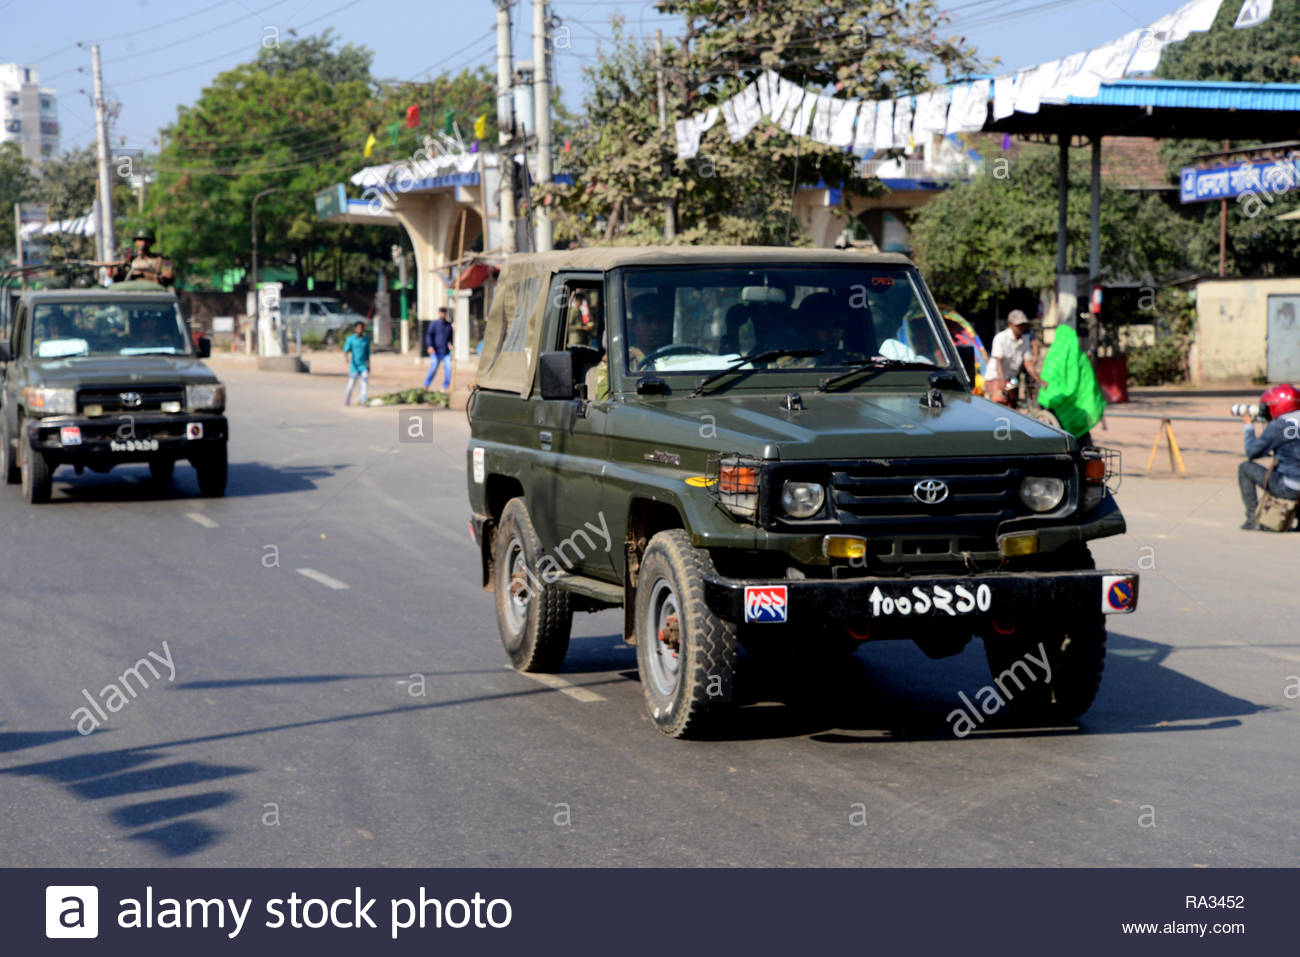army vehicle: (462, 244, 1145, 737), (1, 261, 232, 507)
van: (281, 297, 364, 347)
